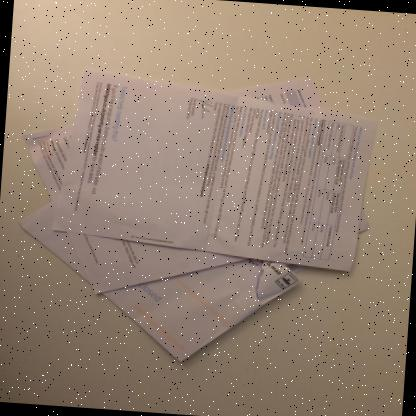Normal paper: (22, 77, 370, 294), (52, 70, 379, 272), (18, 200, 303, 362)
